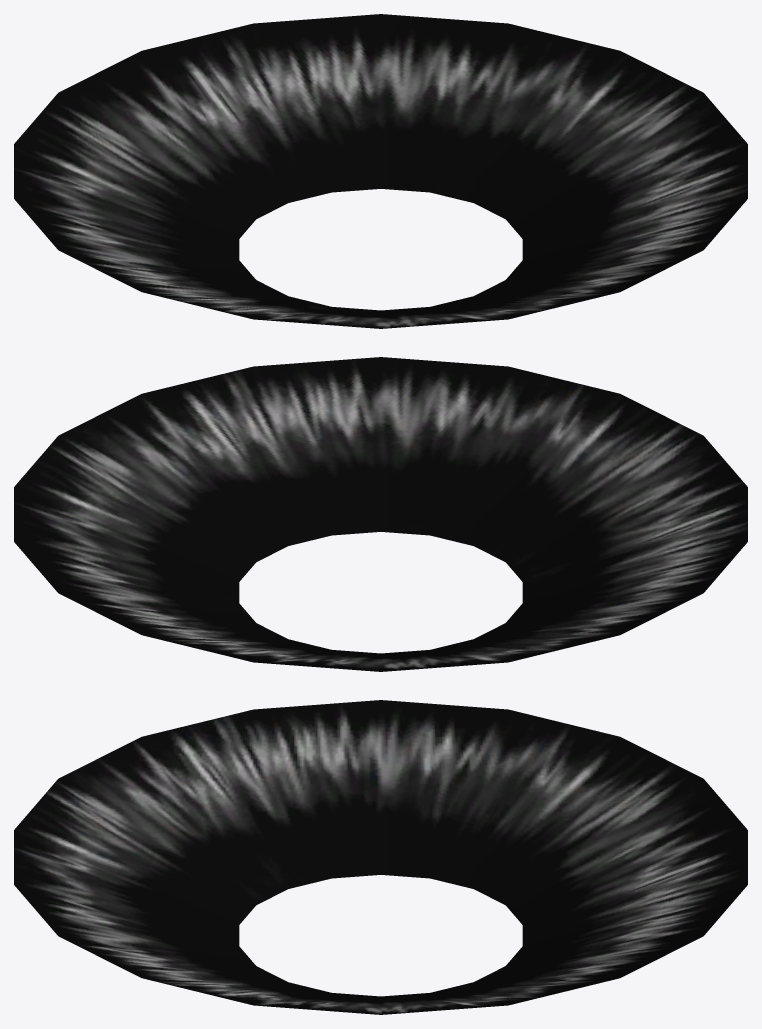
File: Jump3.FBX
3 views of the same model, one above another, from view 1: azimuth 30°, elevation 25°; view 2: azimuth 150°, elevation 25°; view 3: azimuth 270°, elevation 25° (orthographic).
Parts seen in each view (by area): view 1: Jump3; view 2: Jump3; view 3: Jump3.
Boxes of the visible parts, bbox=[...] form: Jump3: bbox=[14, 14, 747, 328]; Jump3: bbox=[14, 357, 747, 671]; Jump3: bbox=[14, 700, 747, 1014].
Bounding box in the file's own units: 299 × 34.57 × 294.
1 material, 1 textured.
